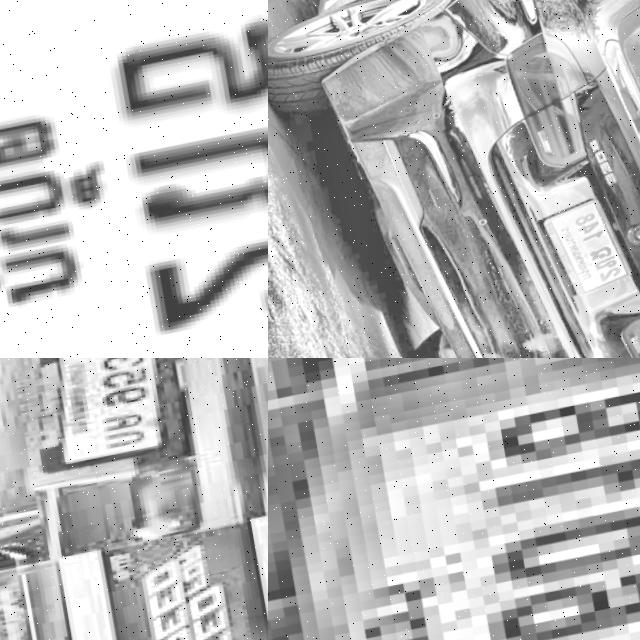license-plate: (268, 358, 640, 640), (0, 0, 268, 358), (13, 358, 200, 481), (532, 195, 635, 309)
